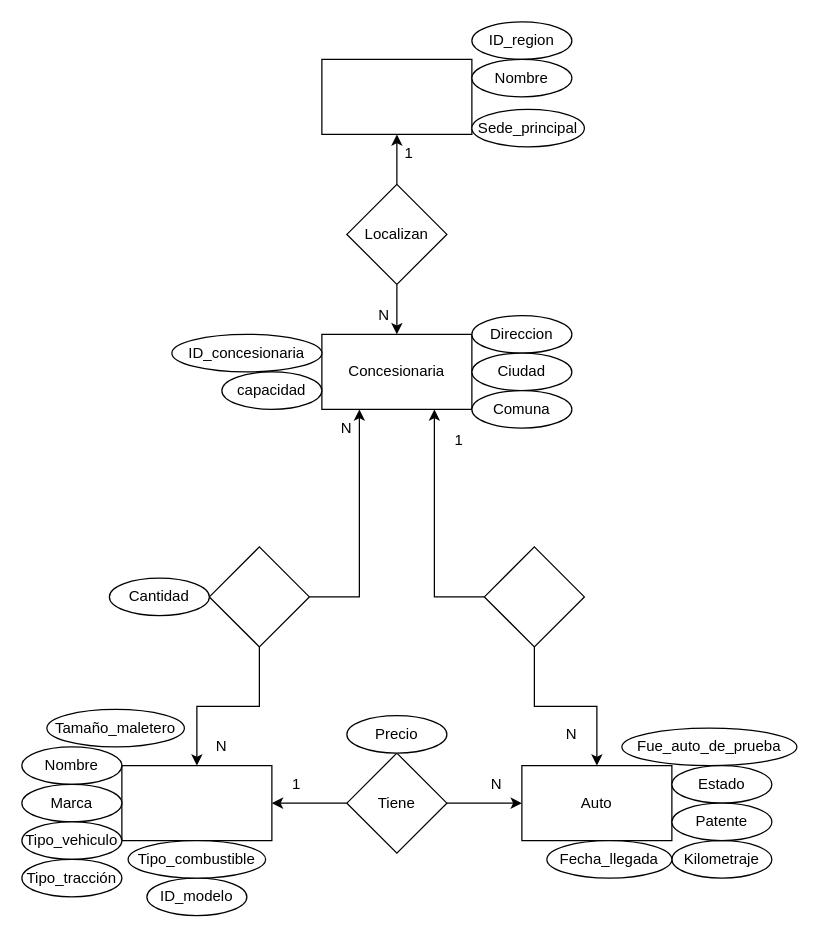
This 819x938 diagram has some shape labels left out. Here are the shapes that lost their labels. From the top down, the box of each, then its label:
(321, 58, 472, 134): Región
(208, 546, 309, 647): Ofrece
(483, 546, 584, 647): Vendió
(121, 764, 272, 841): Modelo
